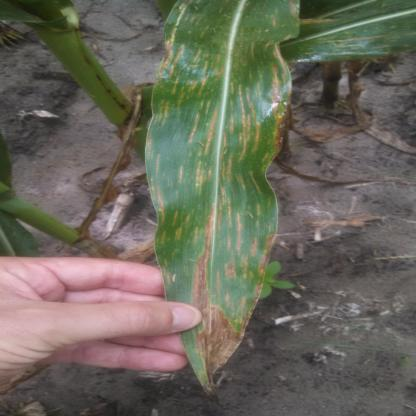Corn leaf blight: (141, 2, 311, 396)
